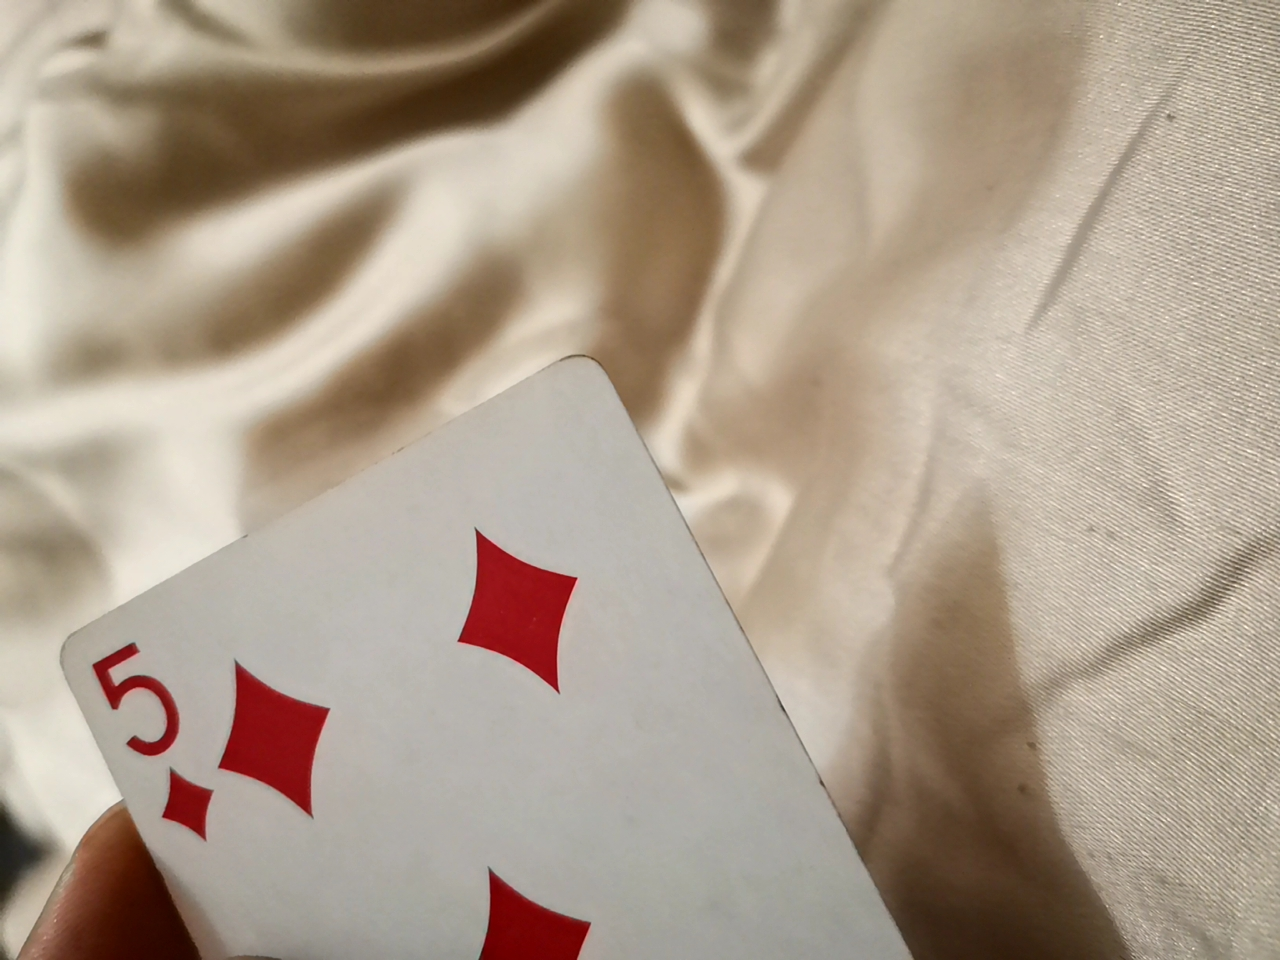fk 5: (47, 285, 1078, 948)
